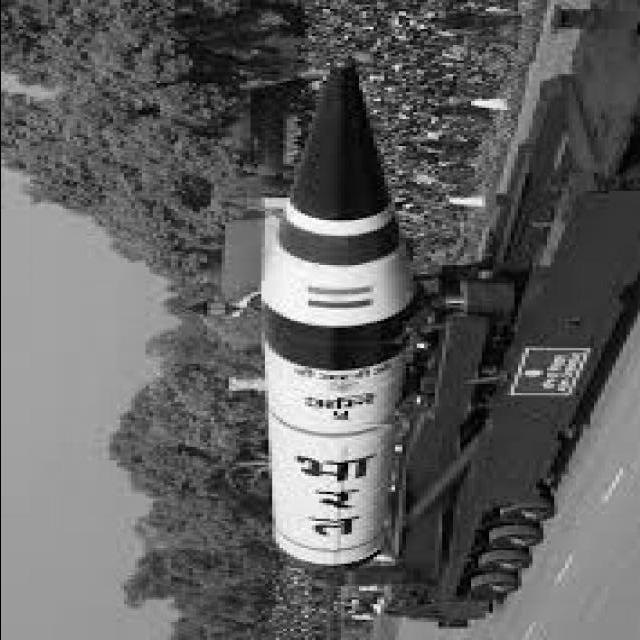missile: (250, 51, 411, 592)
